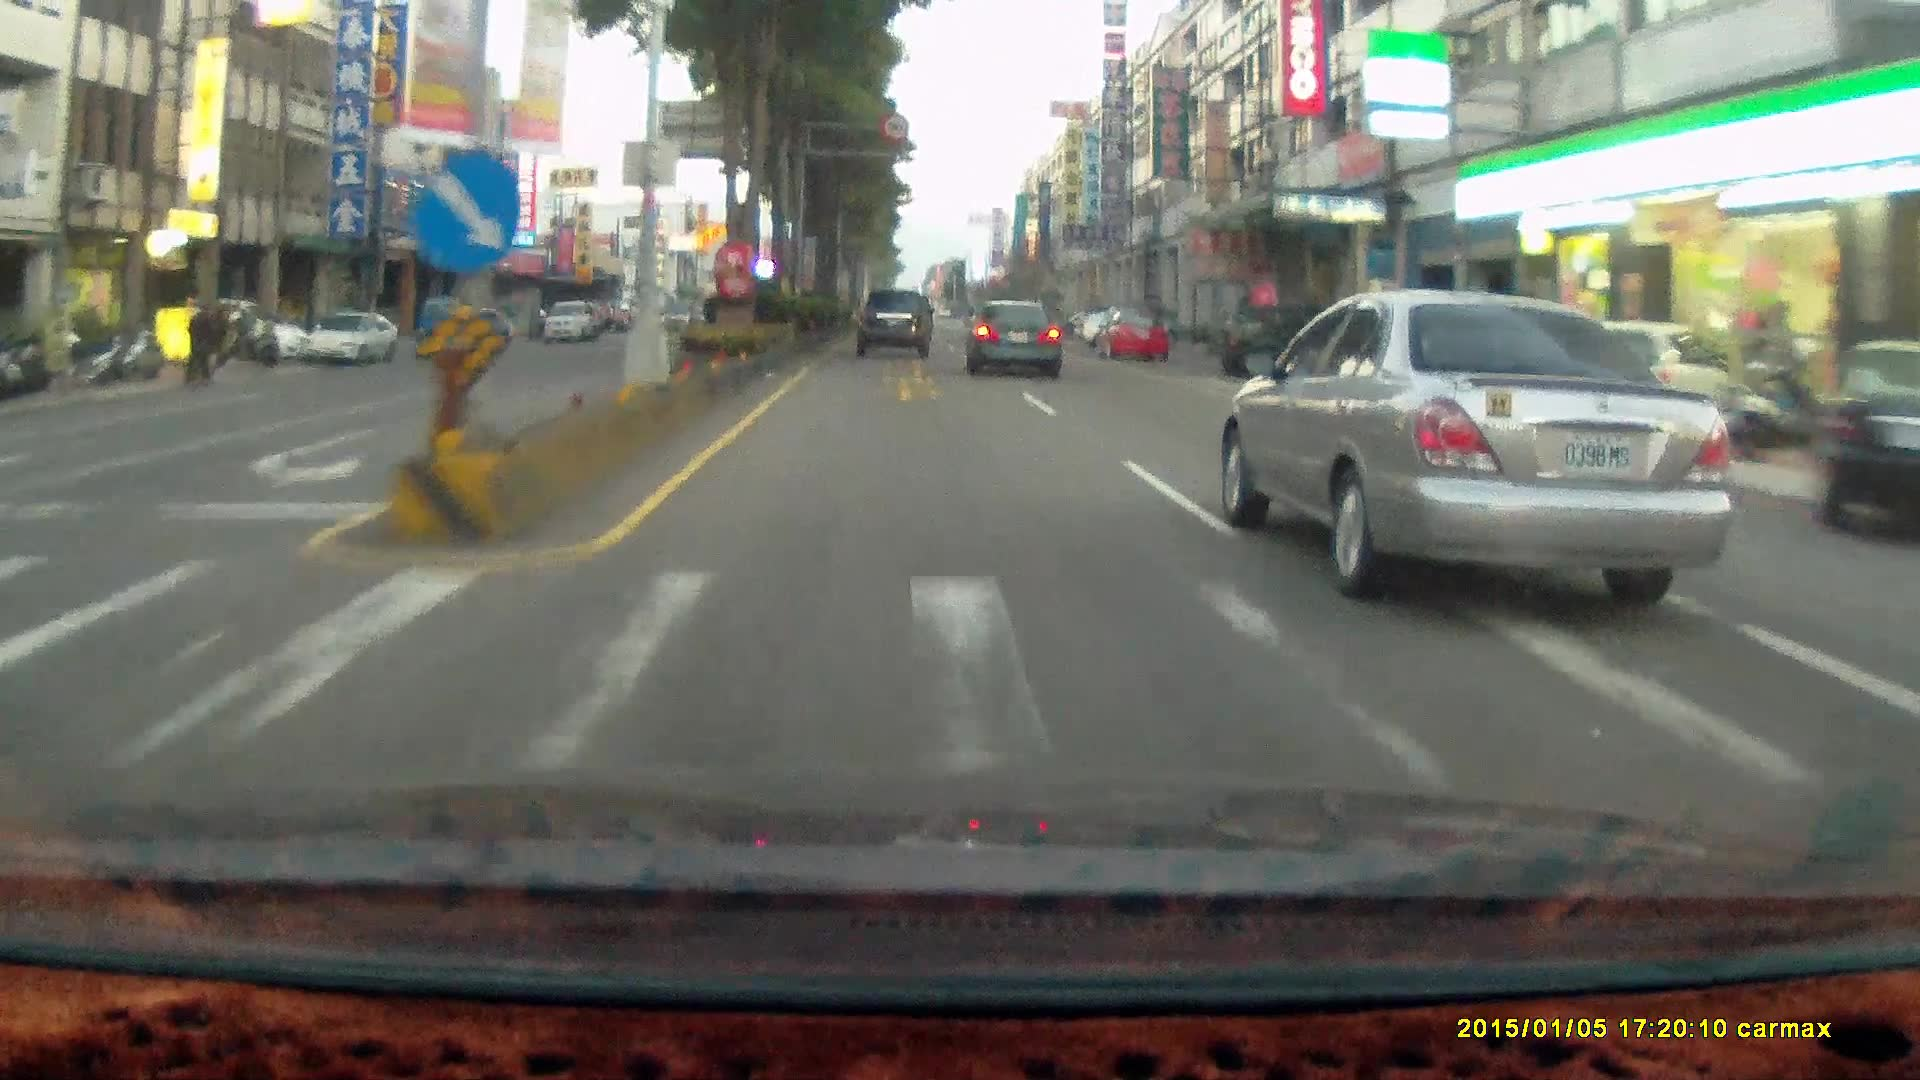pedestrian: (190, 298, 222, 385), (188, 301, 218, 388)
vehicle: (1227, 286, 1735, 592), (1544, 318, 1734, 461), (1812, 338, 1920, 544), (1817, 338, 1920, 538), (1362, 316, 1528, 431), (1232, 308, 1385, 383), (1217, 300, 1369, 375), (179, 293, 305, 359), (966, 298, 1065, 379), (963, 300, 1062, 377), (296, 310, 403, 370), (420, 287, 515, 355), (855, 288, 936, 361), (855, 288, 932, 358), (300, 308, 398, 361), (416, 294, 496, 357), (1095, 302, 1173, 362), (1092, 306, 1166, 360), (545, 299, 598, 344)
